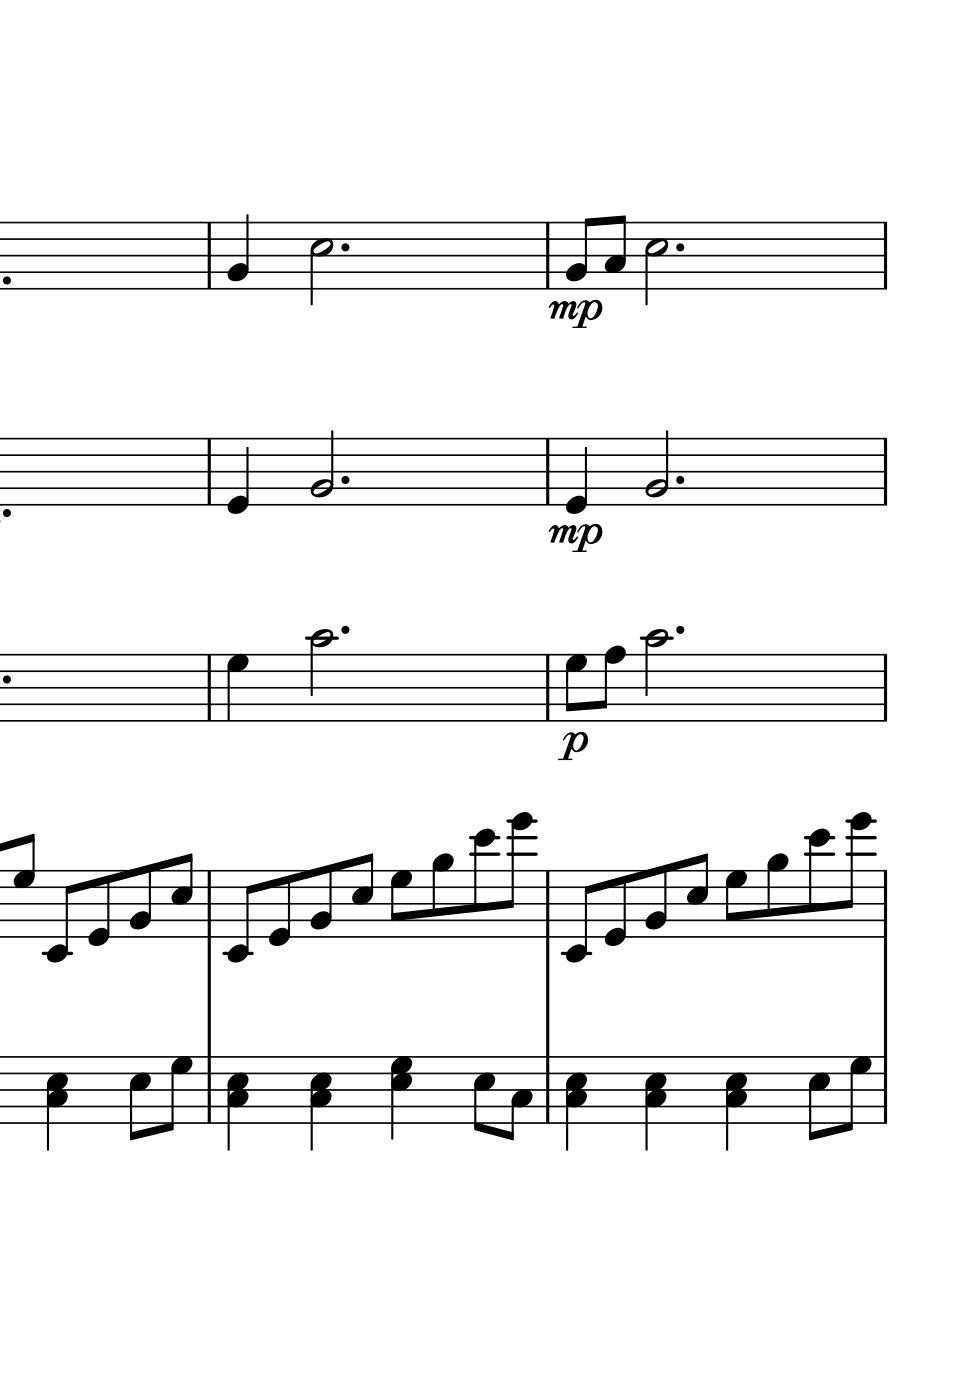2_10: (640, 626, 671, 725), (305, 627, 335, 725)
2_2: (308, 428, 336, 507), (643, 429, 671, 507)
2_5: (642, 220, 668, 306), (308, 221, 333, 308)
4_0: (225, 436, 253, 516), (564, 435, 590, 514)
4_2: (226, 213, 251, 291)
4_3_5: (308, 1055, 333, 1153), (644, 1055, 668, 1154), (226, 1055, 250, 1150), (724, 1054, 748, 1153), (564, 1055, 588, 1153), (46, 1054, 68, 1151)
4_5_7: (389, 1054, 414, 1140)
4_7: (224, 652, 251, 723)
8_-2: (41, 869, 78, 965), (222, 869, 258, 965), (561, 869, 597, 965)
8_0: (86, 869, 112, 948), (266, 869, 293, 948), (602, 869, 628, 947)
8_12: (470, 827, 498, 940), (805, 826, 833, 940)
8_14: (840, 811, 874, 940), (502, 812, 536, 938)
8_2: (564, 216, 594, 290), (308, 863, 334, 940), (643, 864, 669, 941), (127, 863, 153, 940)
8_3: (503, 1055, 533, 1143), (603, 213, 627, 290)
8_5: (349, 852, 375, 938), (805, 1054, 830, 1142), (169, 850, 193, 938), (684, 852, 708, 940), (125, 1054, 150, 1142), (471, 1054, 495, 1135)
8_7: (12, 834, 36, 941), (161, 1055, 192, 1134), (841, 1054, 871, 1133), (723, 869, 748, 940), (562, 653, 587, 722), (389, 869, 413, 938)
8_8: (596, 643, 626, 723)
8_9: (764, 853, 789, 940), (430, 854, 455, 940)
Single_barline: (875, 438, 894, 505), (538, 1056, 557, 1123), (202, 870, 220, 938), (540, 871, 558, 938), (539, 655, 557, 722), (200, 1056, 218, 1123), (200, 439, 218, 505), (876, 1056, 893, 1125), (539, 222, 556, 290), (876, 222, 893, 290), (539, 438, 556, 506), (876, 654, 893, 721), (202, 655, 218, 721), (202, 223, 217, 290), (877, 869, 892, 938)
dot: (337, 240, 352, 256), (672, 240, 686, 256), (672, 472, 686, 488), (337, 473, 351, 488), (672, 624, 686, 638), (338, 622, 351, 638)
mp: (545, 517, 606, 559), (544, 297, 603, 334)
p: (556, 729, 589, 765)
